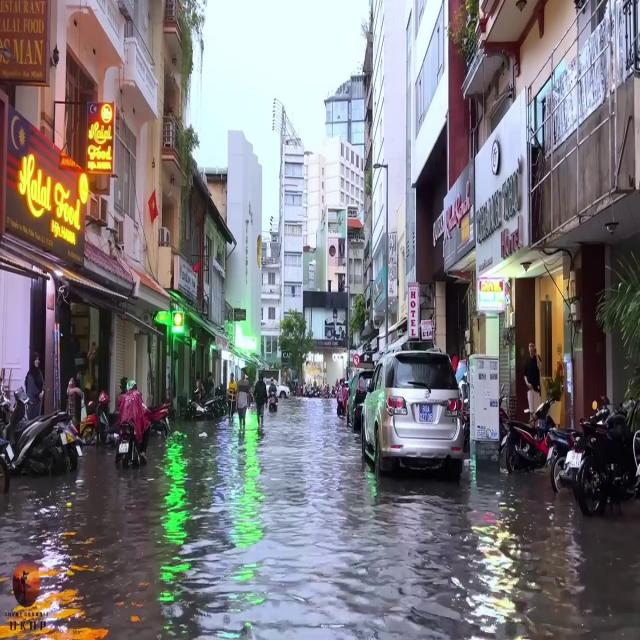bien_xanh: (419, 403, 433, 422)
